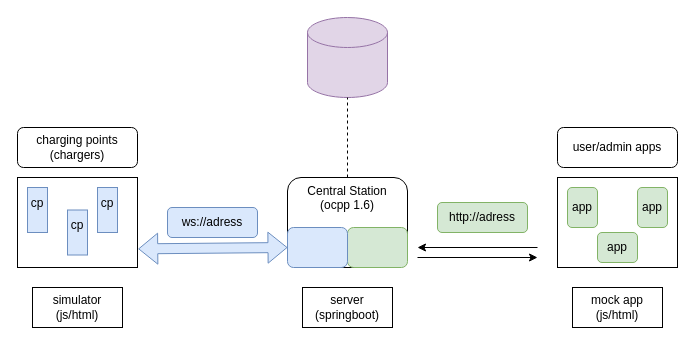
The diagram is 695 pixels wide and 345 high, and some of its shapes have lost their labels. Each missing label, with the centre of its shape:
"api" belongs at (x=377, y=247).
"database (postgresql)" belongs at (x=347, y=57).
"WS" belongs at (x=317, y=247).
